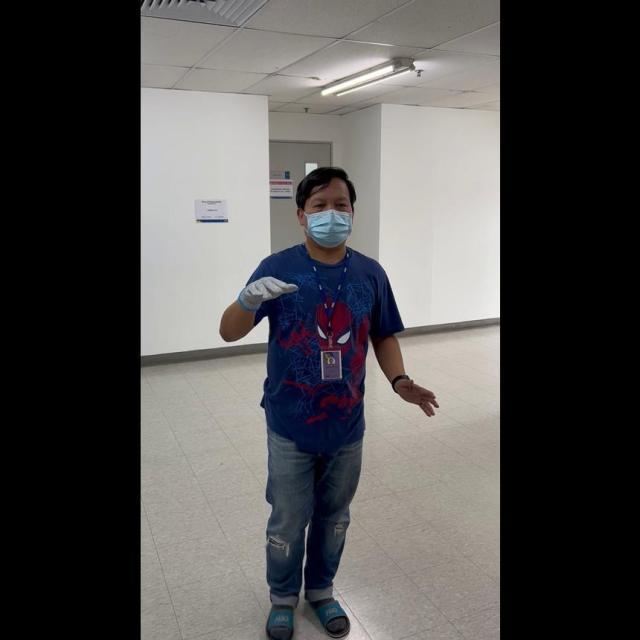bare_hand: (392, 374, 438, 417)
gloved_hand: (235, 269, 297, 312)
